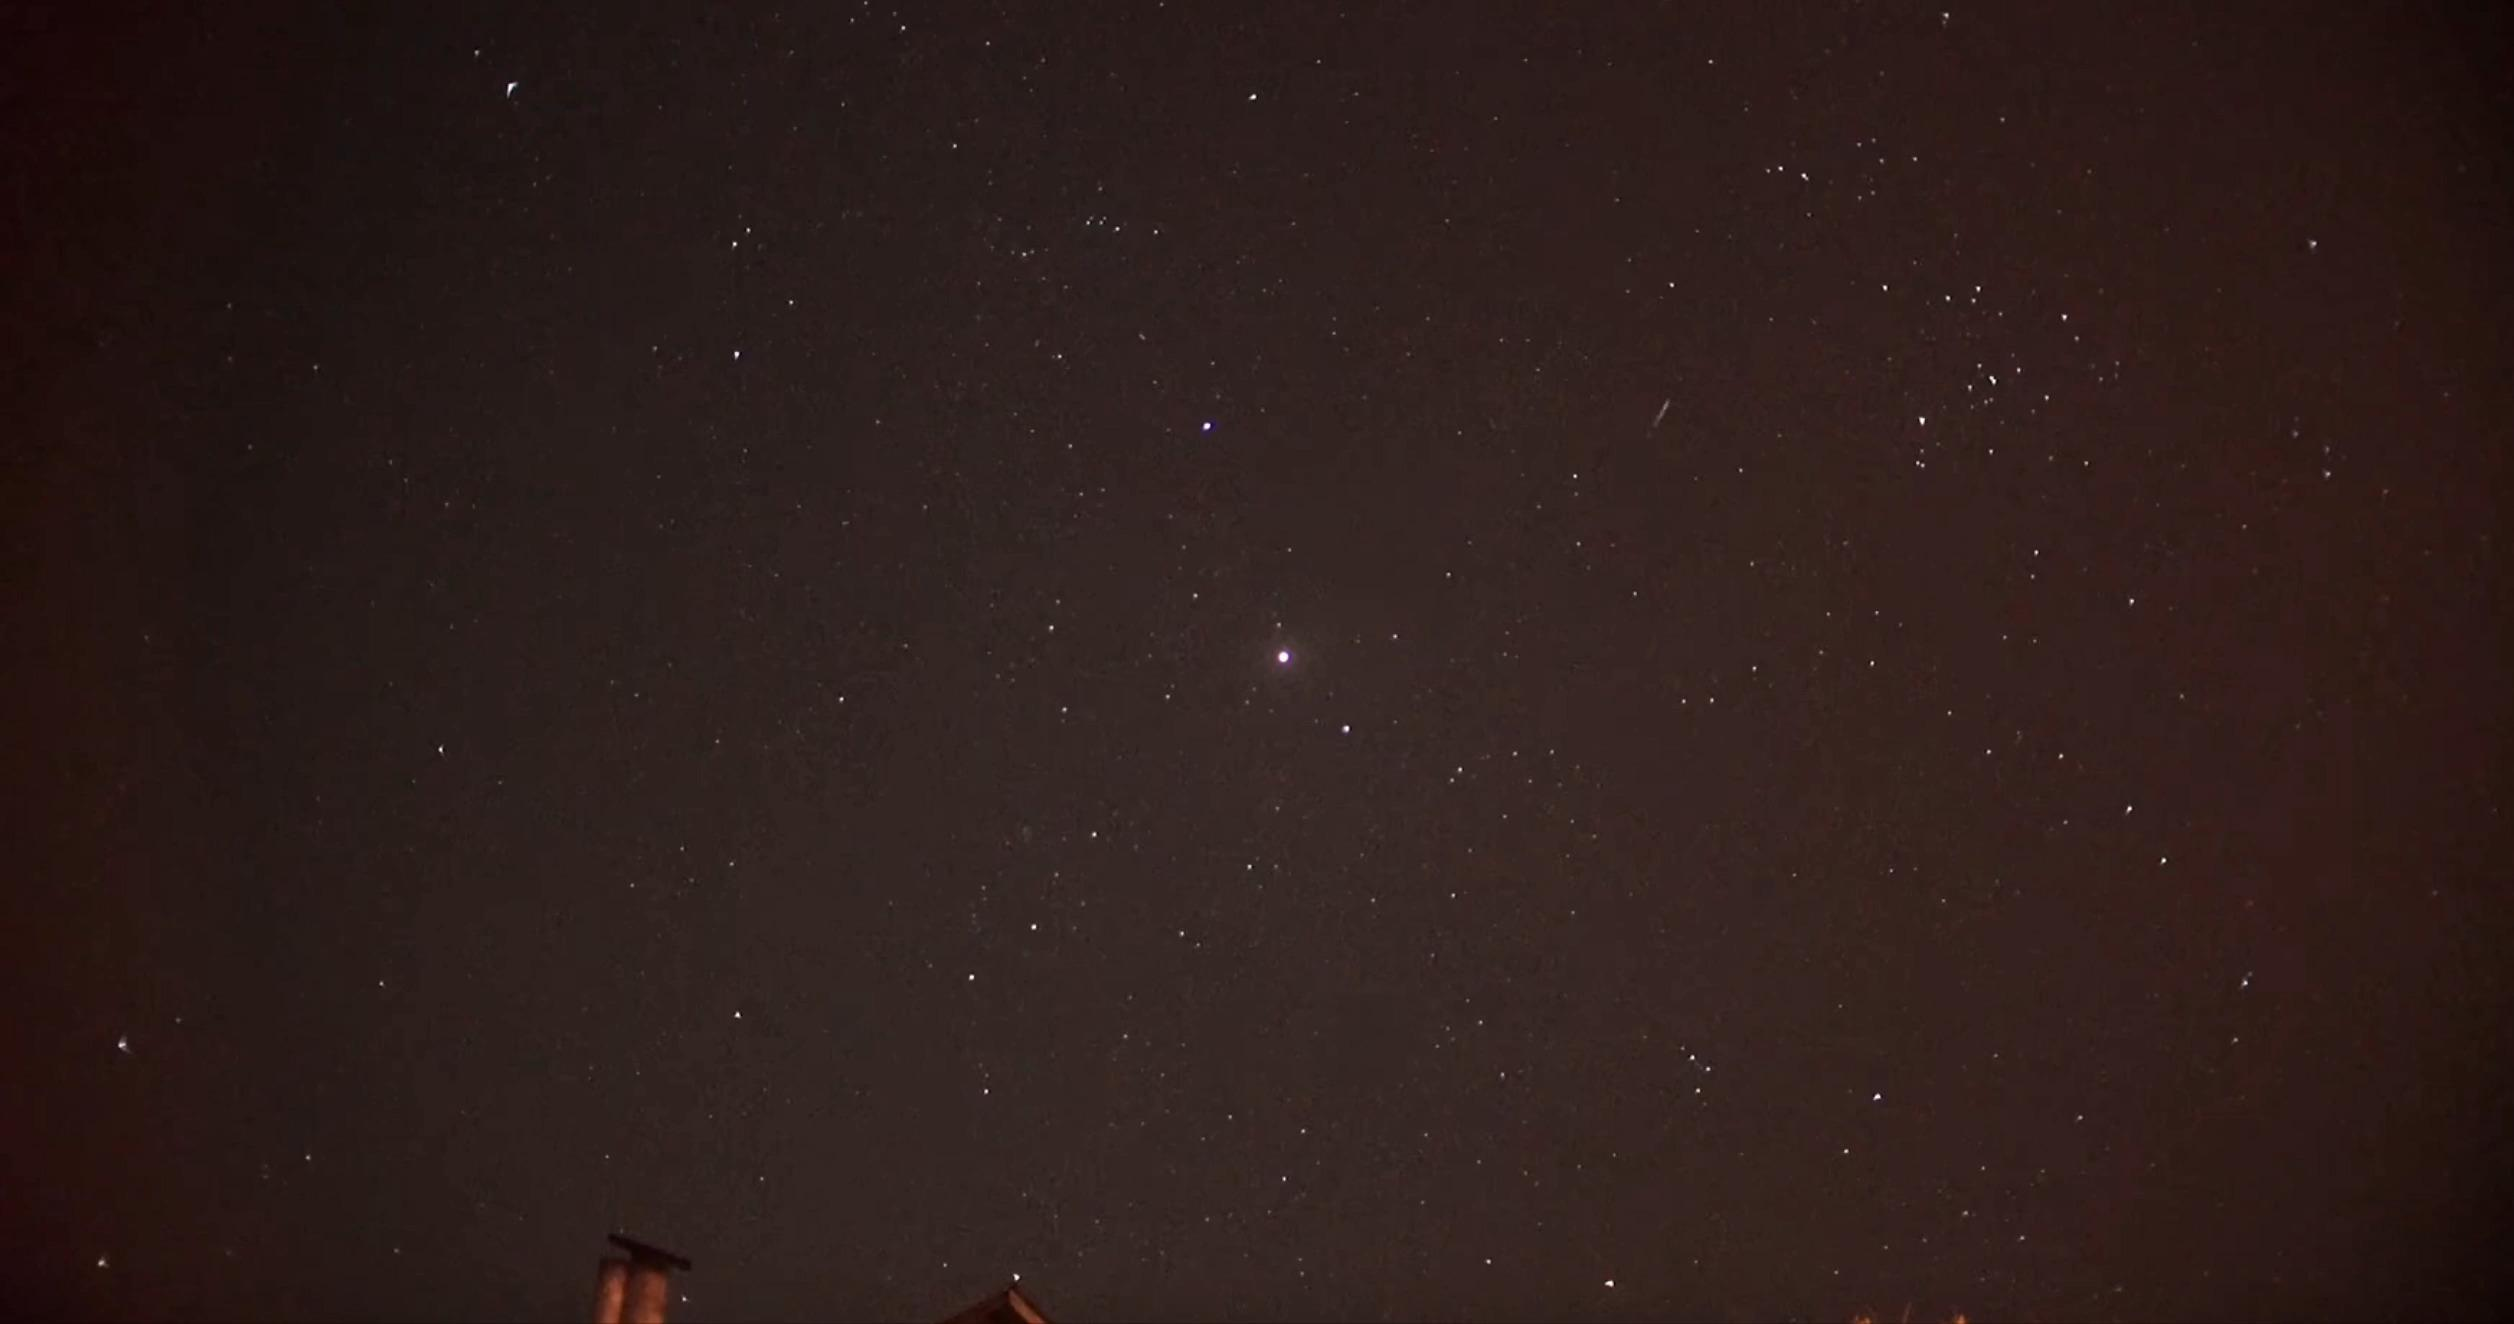meteorite: (1624, 384, 1706, 432)
